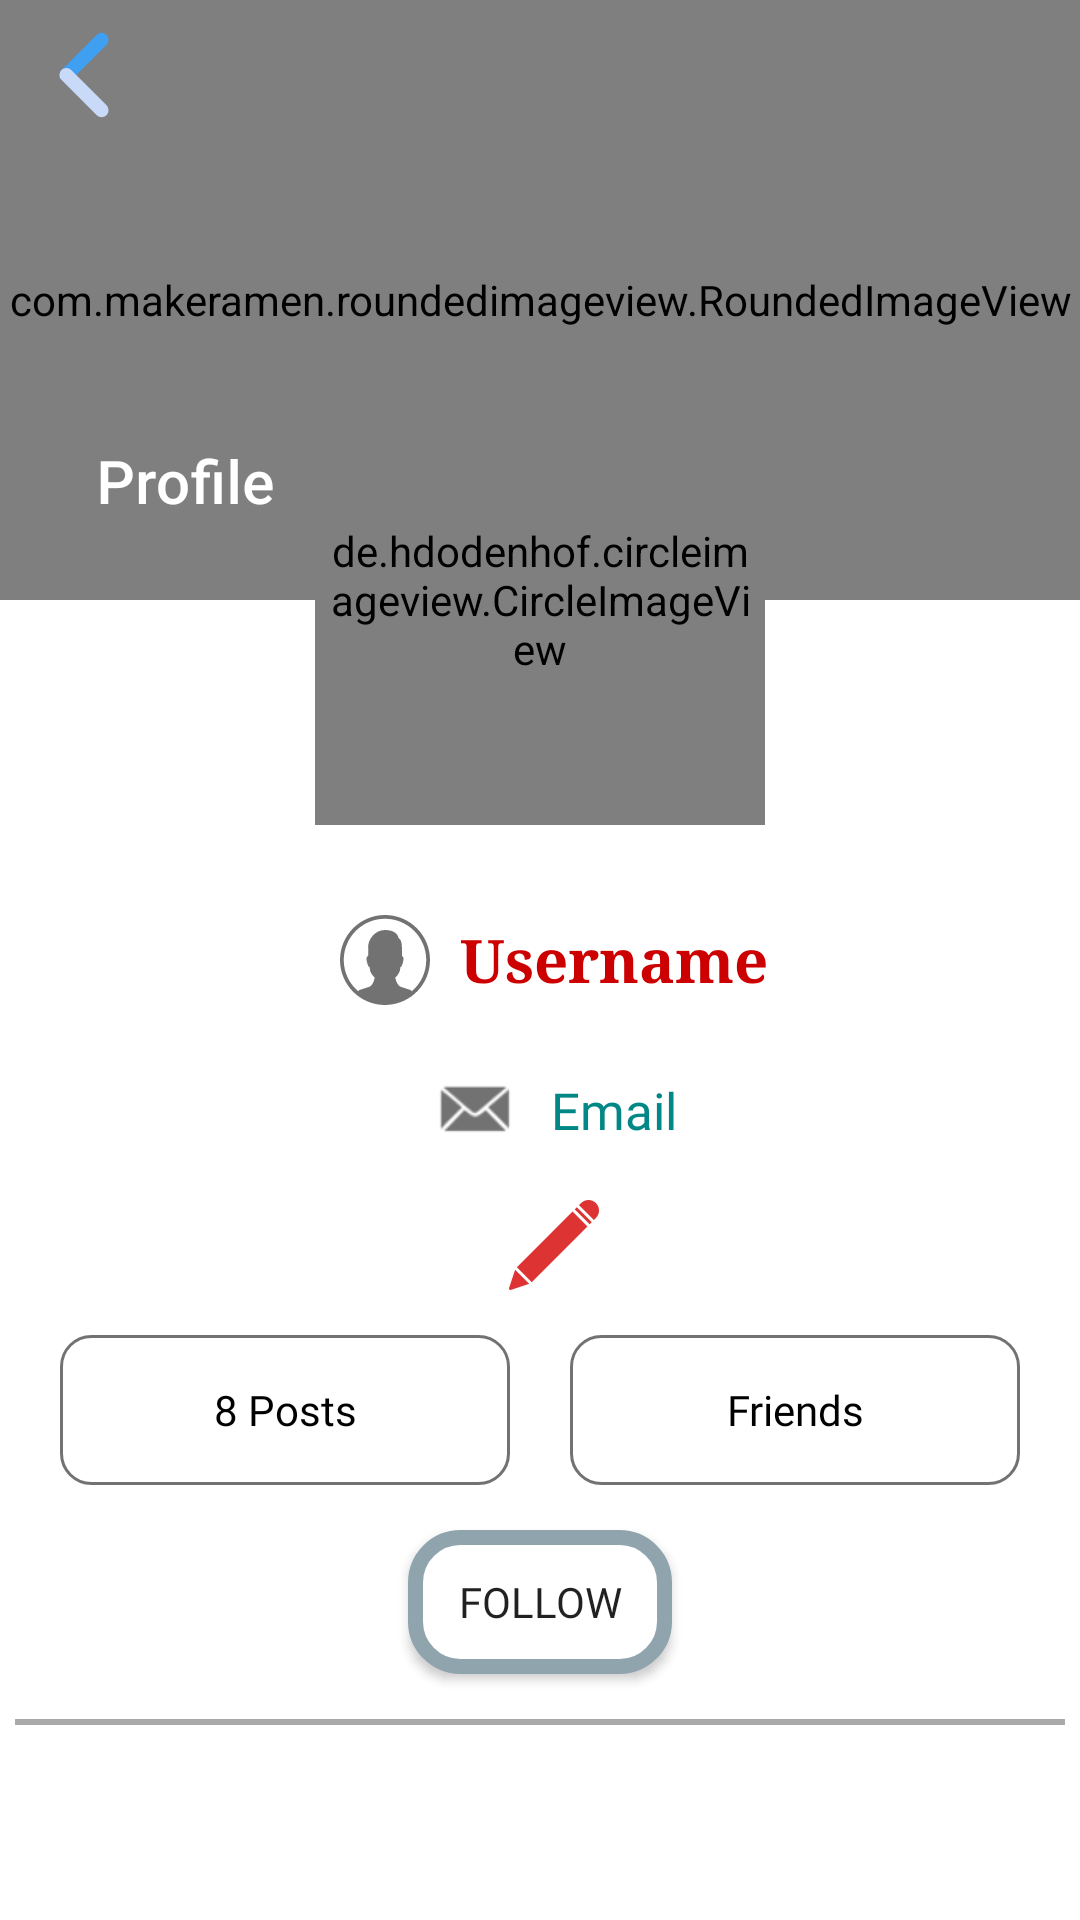

Icons on this 1080w x 1920h Android screen, each with its box as (x1, y1, x2, y2):
edit: (509, 1200, 599, 1290)
